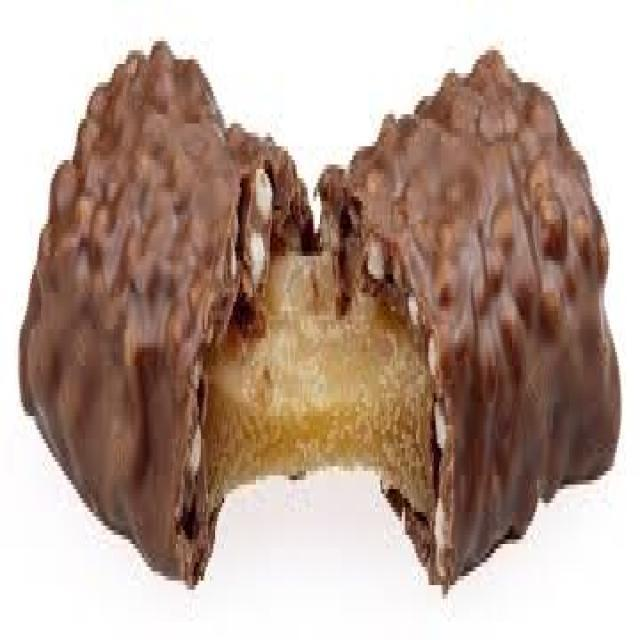Chocolate bar packaged: (18, 23, 626, 563)
